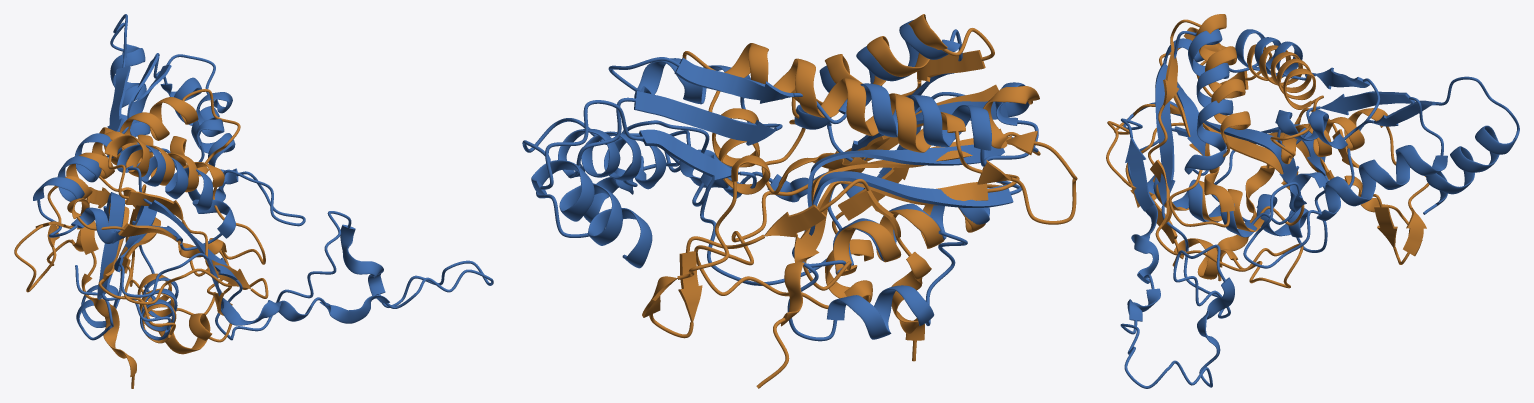
3 views of the same model, side by side, from view 1: azimuth 30°, elevation 25°; view 2: azimuth 150°, elevation 25°; view 3: azimuth 270°, elevation 25° (orthographic). The views are drawn at different scales.
Bounding box in the file's own units: 72.35 × 40.16 × 57.21.
